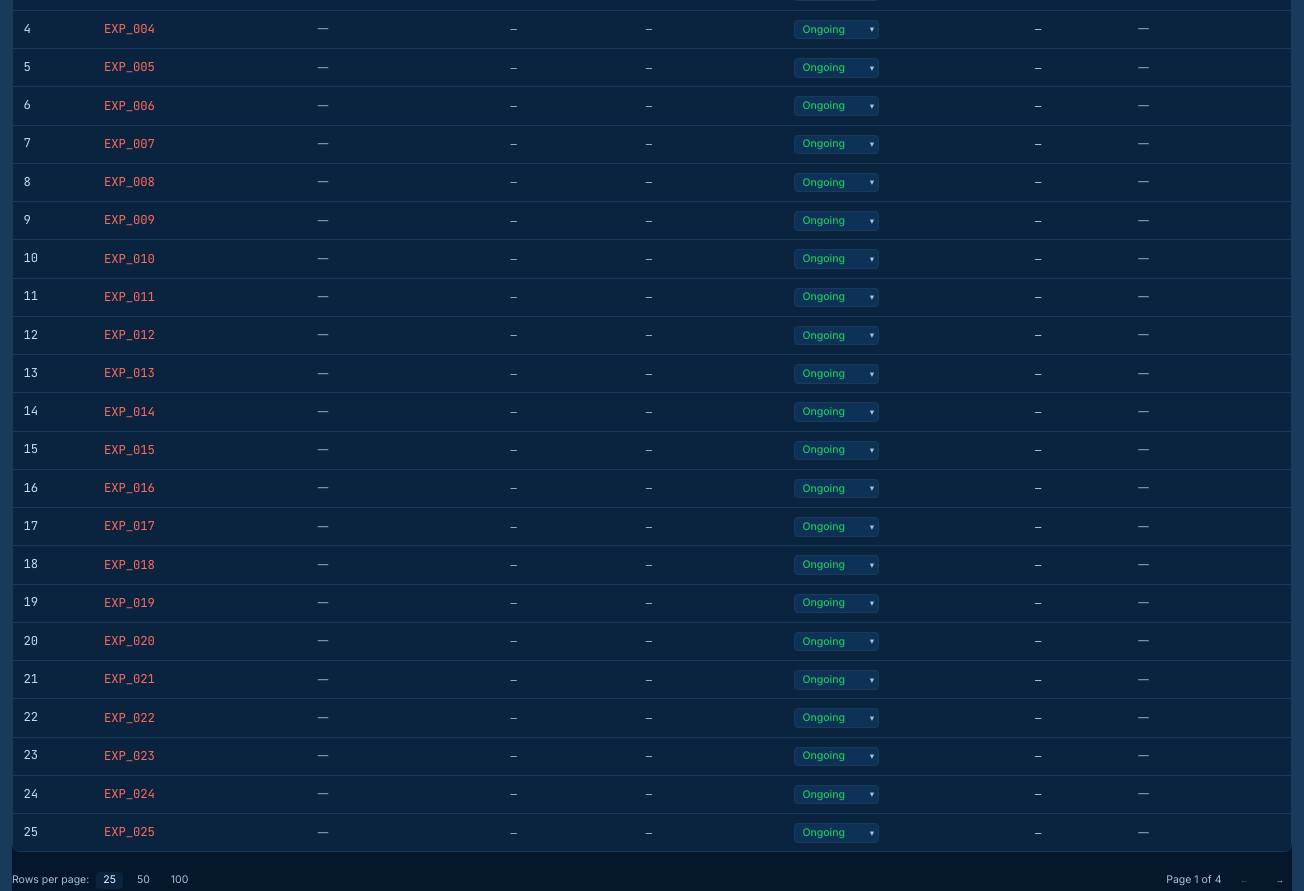
Test case: ExperimentListPage — pagination reset on filter › paginates forward and backward without resetting when no filter changes
(page scrolled)
Expected: the text "Page 1 of 4" is shown, [1166,873,1222,887]
Go to page 2
Step 1. Click the button "→" → click(1280, 880), box [1267,870,1292,890]
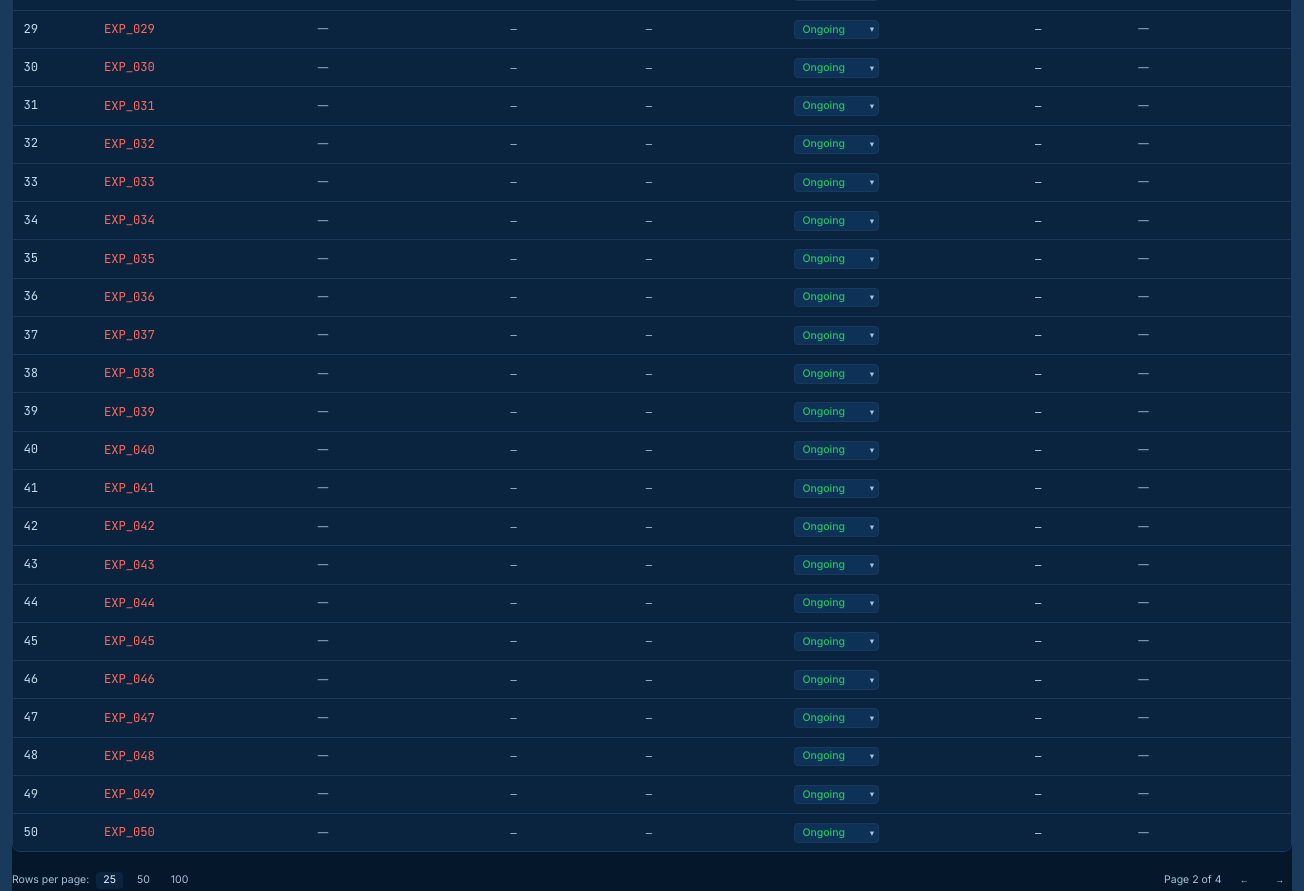
Expected: the text "Page 2 of 4" is shown, [1164,873,1222,887]
Go to page 3
Step 2. Click the button "→" → click(1280, 880), box [1267,870,1292,890]
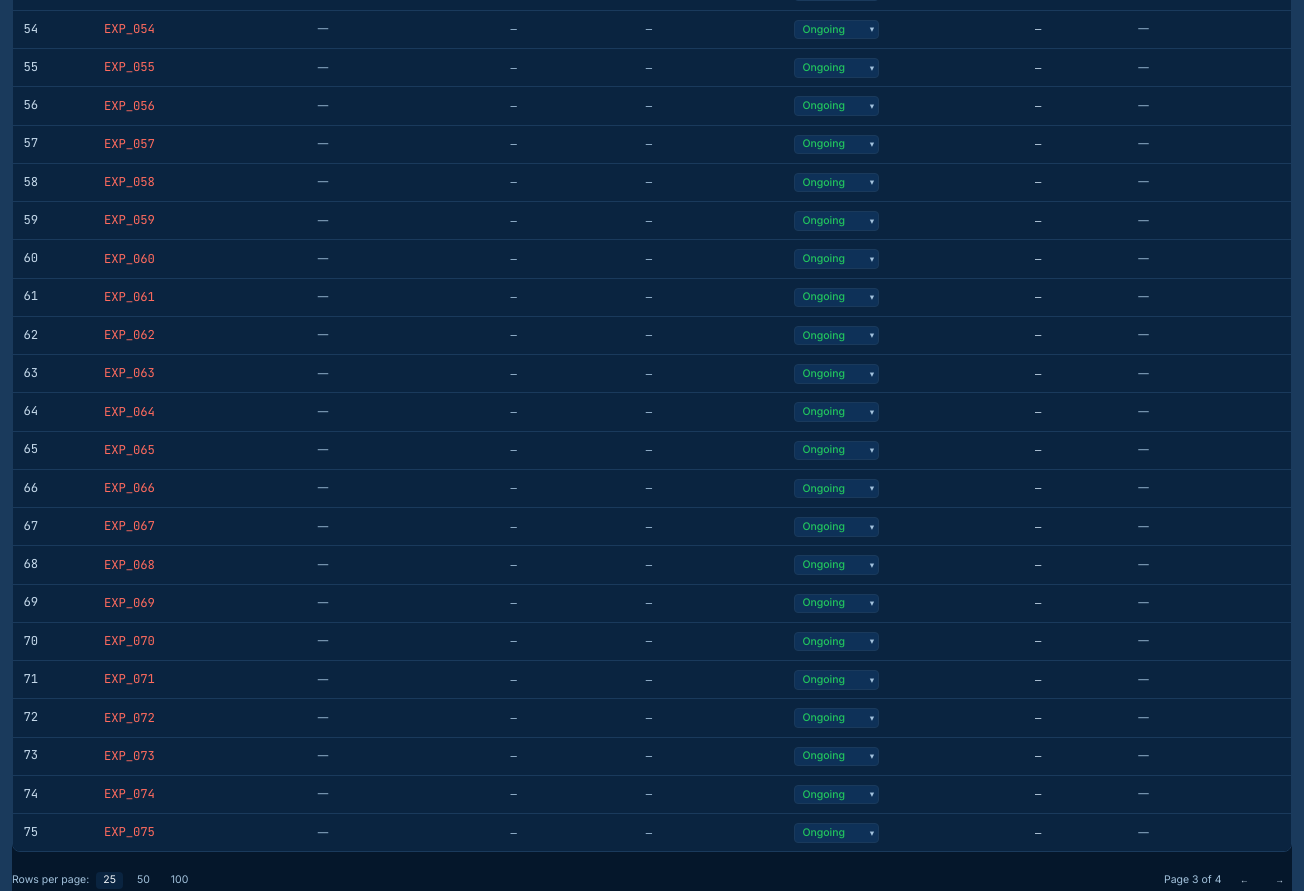
Expected: the text "Page 3 of 4" is shown, [1164,873,1222,887]
Go back to page 2
Step 3. Click the button "←" → click(1244, 880), box [1232,870,1257,890]
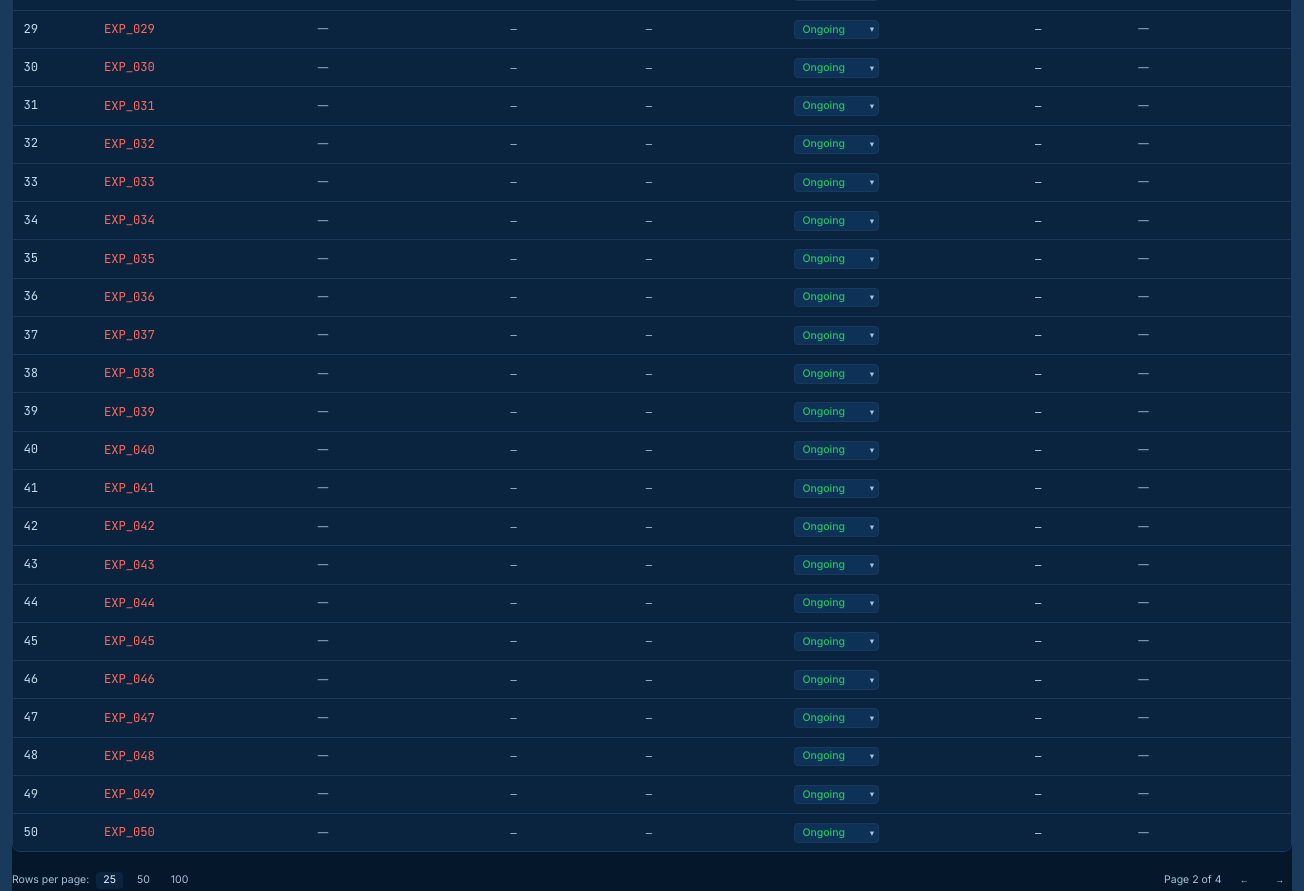
Expected: the text "Page 2 of 4" is shown, [1164,873,1222,887]
